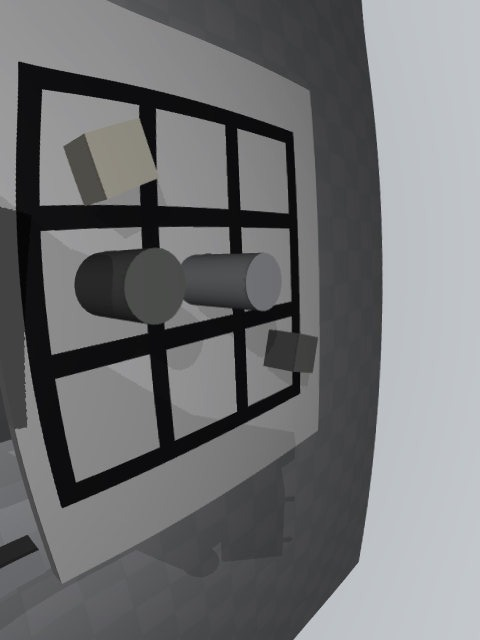can: (181, 253, 282, 312)
cube: (263, 329, 318, 373)
cylinder: (75, 247, 185, 324)
foam: (64, 118, 159, 206)
